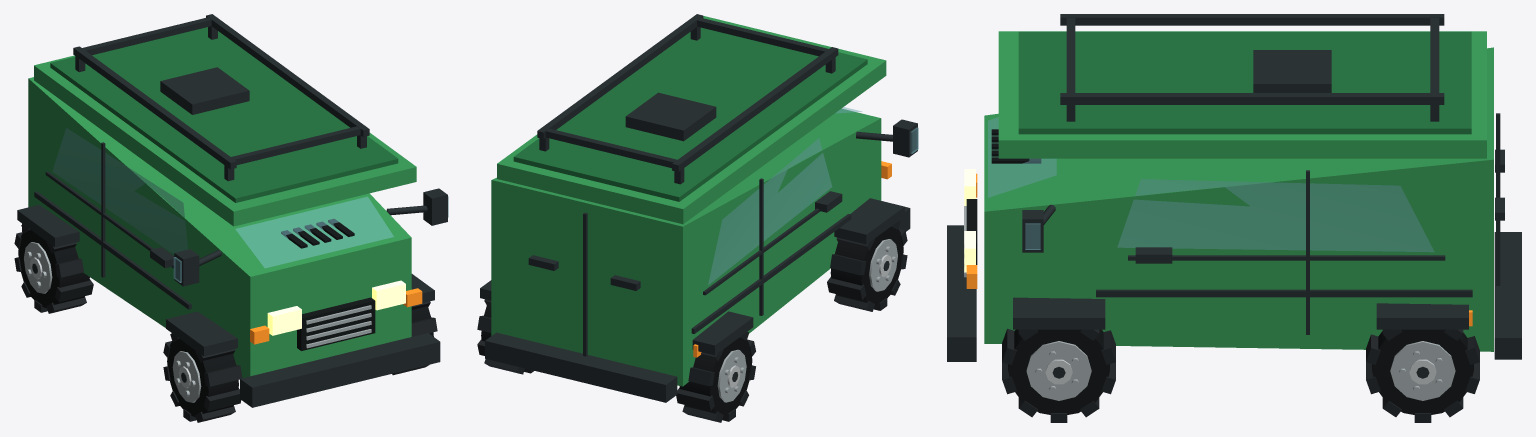
The model's file is asset.glb.
3 renders of one model, left to right at view 1: azimuth 30°, elevation 25°; view 2: azimuth 150°, elevation 25°; view 3: azimuth 270°, elevation 25°, orthographic. The views are drawn at different scales.
Parts seen in each view (by area): view 1: Van_Main_Body, Roof_Upper_Panel, Roof_Cap, Left_Side_Window, Front_Bumper, Van_Sloped_Hood, Front_Windshield, Roof_Vent, Left_Rack_Top_Rail, Right_Rack_Top_Rail, Front_Grille, Wheel_3_L_Tire (+18 smaller); view 2: Van_Main_Body, Roof_Upper_Panel, Van_Sloped_Hood, Roof_Cap, Left_Side_Window, Rear_Bumper, Roof_Vent, Left_Rack_Top_Rail, Right_Rack_Top_Rail, Wheel_3_L_Tire, Wheel_3_L_Fender, Wheel_1_L_Tire (+13 smaller); view 3: Van_Main_Body, Roof_Upper_Panel, Right_Side_Window, Roof_Cap, Right_Rack_Top_Rail, Left_Rack_Top_Rail, Wheel_4_R_Tire, Wheel_2_R_Tire, Roof_Vent, Right_Cargo_Panel_Trim, Rear_Bumper, Front_Bumper (+12 smaller).
Part boxes in pixels (x1,y1,x2,y2): Van_Main_Body: [28, 77, 411, 377]; Roof_Upper_Panel: [50, 27, 398, 202]; Roof_Cap: [34, 55, 416, 226]; Left_Side_Window: [52, 128, 187, 253]; Front_Bumper: [240, 333, 440, 407]; Van_Sloped_Hood: [257, 241, 404, 365]; Front_Windshield: [235, 196, 393, 268]; Roof_Vent: [160, 67, 249, 114]; Left_Rack_Top_Rail: [73, 46, 236, 169]; Right_Rack_Top_Rail: [206, 14, 369, 136]; Front_Grille: [297, 297, 375, 350]; Wheel_3_L_Tire: [167, 338, 238, 417]; Van_Main_Body: [491, 108, 881, 386]; Roof_Upper_Panel: [513, 27, 867, 201]; Van_Sloped_Hood: [503, 188, 670, 368]; Roof_Cap: [497, 16, 886, 224]; Left_Side_Window: [708, 138, 832, 284]; Rear_Bumper: [485, 332, 677, 402]; Roof_Vent: [625, 92, 716, 141]; Left_Rack_Top_Rail: [672, 47, 838, 171]; Right_Rack_Top_Rail: [537, 14, 703, 138]; Wheel_3_L_Tire: [830, 226, 903, 306]; Wheel_3_L_Fender: [834, 198, 904, 244]; Wheel_1_L_Tire: [679, 337, 752, 417]; Van_Main_Body: [984, 47, 1493, 351]; Roof_Upper_Panel: [1018, 31, 1471, 134]; Right_Side_Window: [1117, 179, 1434, 252]; Roof_Cap: [998, 31, 1486, 158]; Right_Rack_Top_Rail: [1060, 93, 1444, 104]; Left_Rack_Top_Rail: [1060, 14, 1444, 25]; Wheel_4_R_Tire: [1008, 329, 1109, 414]; Wheel_2_R_Tire: [1372, 329, 1473, 414]; Roof_Vent: [1253, 50, 1331, 92]; Right_Cargo_Panel_Trim: [1096, 289, 1472, 297]; Rear_Bumper: [1494, 232, 1521, 359]; Front_Bumper: [947, 225, 976, 361].
Bounding box in the file's own units: 3.2 × 2.79 × 4.85.
